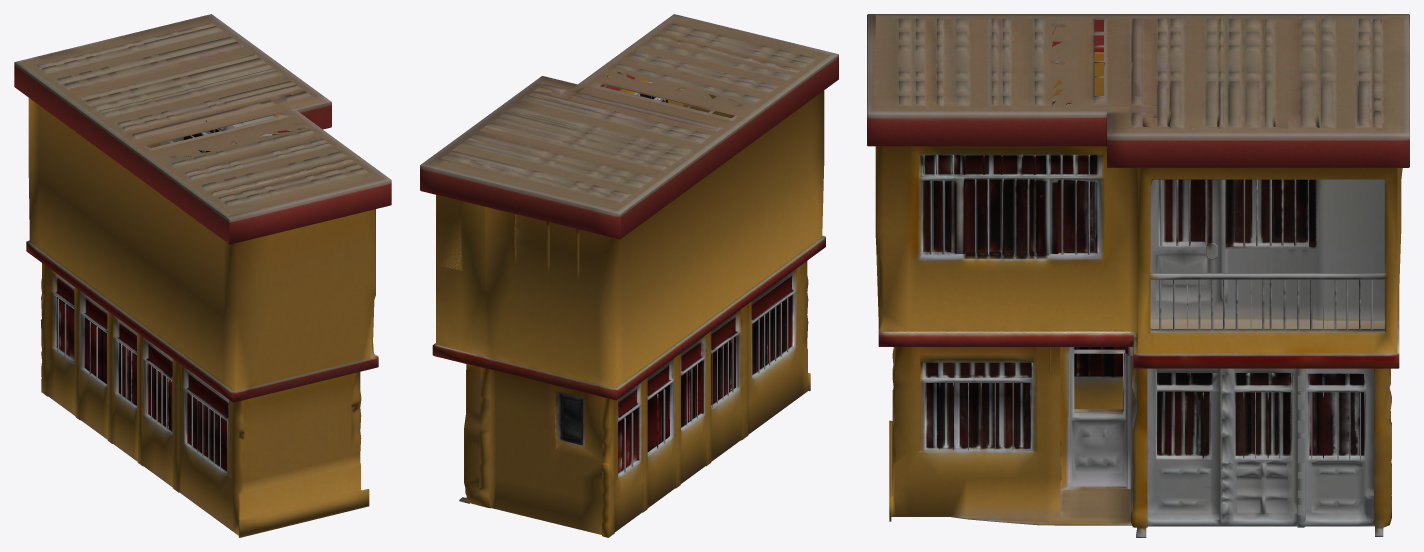
File: tripo_convert_17699938-8e84-4f13-a7ad-811a843a83b7.fbx
3 views of the same model, side by side, from view 1: azimuth 30°, elevation 25°; view 2: azimuth 150°, elevation 25°; view 3: azimuth 270°, elevation 25° (orthographic). The views are drawn at different scales.
Parts seen in each view (by area): view 1: tripo_node_17699938; view 2: tripo_node_17699938; view 3: tripo_node_17699938.
Boxes of the visible parts, x1,y1,x2,y2 form: tripo_node_17699938: [14, 14, 391, 537]; tripo_node_17699938: [420, 14, 838, 537]; tripo_node_17699938: [867, 14, 1409, 537].
Size of the model in its own units: 0.5303 by 0.8571 by 1.
